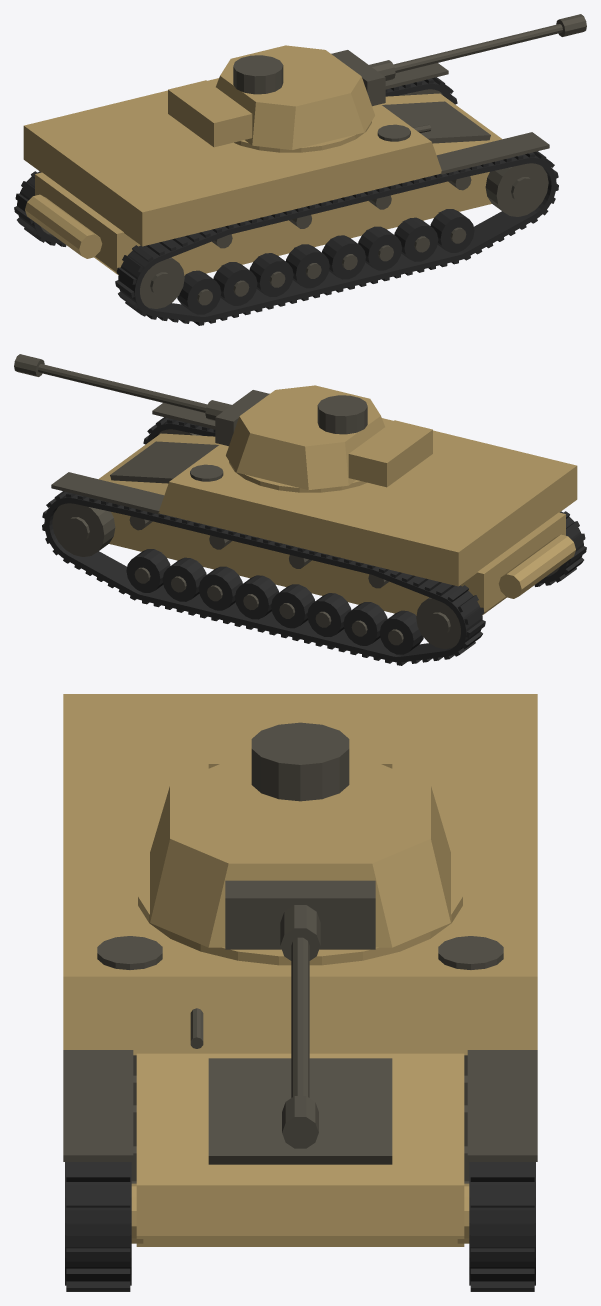
File: de_panzer_iv.obj
3 renders of one model, top to bottom at view 1: azimuth 30°, elevation 25°; view 2: azimuth 150°, elevation 25°; view 3: azimuth 270°, elevation 25°, orthographic. The views are drawn at different scales.
Size of the model in its own units: 7.33 by 2.5 by 2.84.
